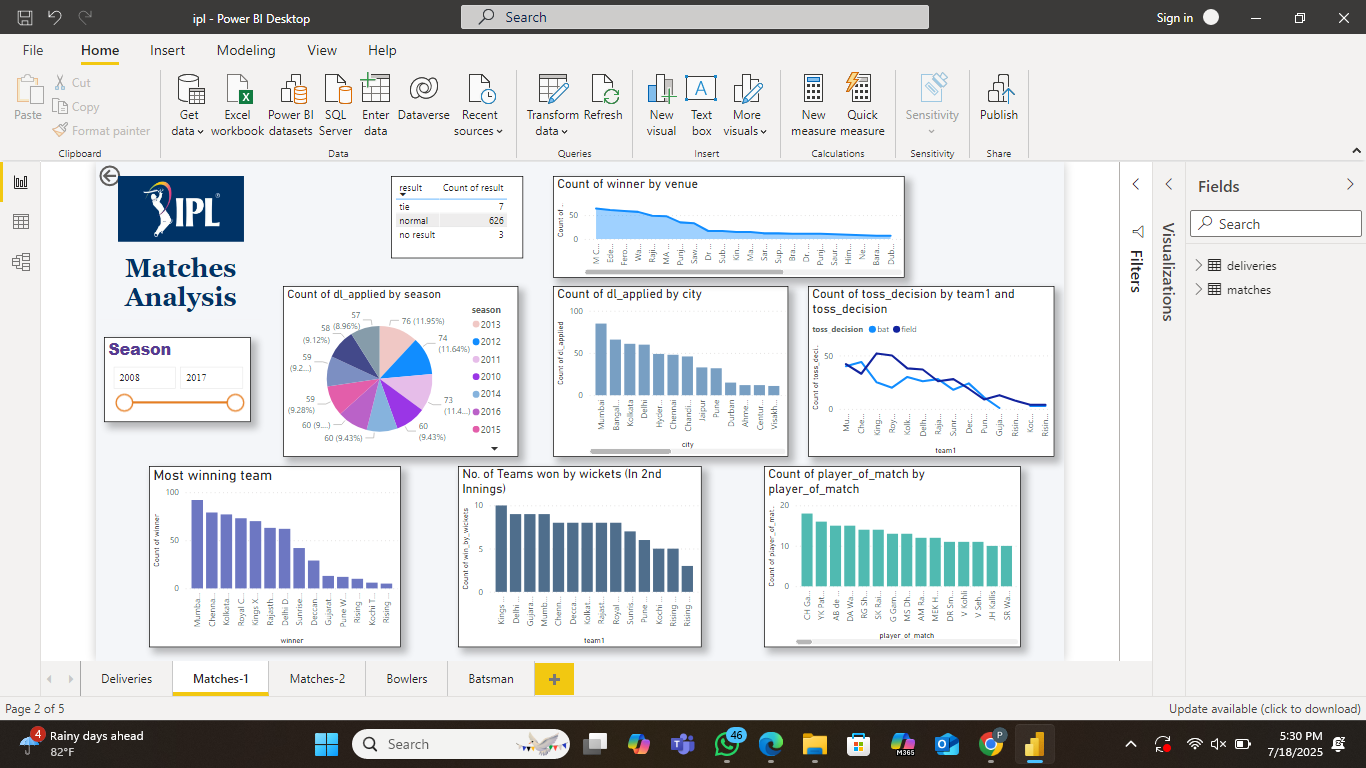

What the dashboard file says about the page in this screenshot:
{"tool":"powerbi","page":{"name":"Matches-1","canvas":[1398,721],"ordinal":1},"visuals":[{"type":"clusteredColumnChart","fields":{"Y":["matches.dl_applied"],"Category":["matches.city"]},"box":[659.9,178.9,339.7,246.5],"z":0},{"type":"clusteredColumnChart","title":"Most winning team","fields":{"Category":["matches.winner"],"Y":["matches.winner"]},"box":[76.7,438.9,363.8,261.6],"z":1000},{"type":"actionButton","box":[0,0,100,40],"z":2000},{"type":"clusteredColumnChart","title":"No. of Teams won by wickets (In 2nd Innings)","fields":{"Category":["matches.team1"],"Y":["matches.win_by_wickets"]},"box":[523.1,438.9,351.8,261.6],"z":3000},{"type":"lineChart","fields":{"Category":["matches.team1"],"Series":["matches.toss_decision"],"Y":["matches.toss_decision"]},"box":[1028.2,178.9,356.3,246.5],"z":4000},{"type":"clusteredColumnChart","fields":{"Category":["matches.player_of_match"],"Y":["matches.player_of_match"]},"box":[965.1,438.9,371.3,261.6],"z":5000},{"type":"image","box":[31.6,19.5,181.9,94.7],"z":6000},{"type":"slicer","title":"Season","fields":{"Values":["matches.season"]},"box":[11.5,252.5,212.1,122.7],"z":7000},{"type":"textbox","box":[4.5,127.8,236,100.7],"z":8000},{"type":"pieChart","fields":{"Y":["matches.dl_applied"],"Series":["matches.season"]},"box":[270.6,178.9,339.7,246.5],"z":9000},{"type":"tableEx","fields":{"Values":["matches.result","matches.result"]},"box":[426.9,19.5,190.9,118.8],"z":10000},{"type":"areaChart","fields":{"Category":["matches.venue"],"Y":["matches.winner"]},"box":[659.9,19.5,508.1,147.3],"z":11000}]}

Visuals, with their boxes on the page's 1398x721 design canvas (x1, y1, x2, y2). These are canvas units, not pixel positions in the 1366x768 screenshot, which may show the page scaled, cropped or inside an application window:
clusteredColumnChart - matches.dl_applied x matches.city: (left=660, top=179, right=1000, bottom=425)
"Most winning team" clusteredColumnChart: (left=77, top=439, right=440, bottom=700)
actionButton: (left=0, top=0, right=100, bottom=40)
"No. of Teams won by wickets (In 2nd Innings)" clusteredColumnChart: (left=523, top=439, right=875, bottom=700)
lineChart - matches.team1 x matches.toss_decision: (left=1028, top=179, right=1384, bottom=425)
clusteredColumnChart - matches.player_of_match x matches.player_of_match: (left=965, top=439, right=1336, bottom=700)
image: (left=32, top=20, right=214, bottom=114)
"Season" slicer: (left=12, top=252, right=224, bottom=375)
textbox: (left=4, top=128, right=240, bottom=228)
pieChart - matches.dl_applied x matches.season: (left=271, top=179, right=610, bottom=425)
tableEx - matches.result x matches.result: (left=427, top=20, right=618, bottom=138)
areaChart - matches.venue x matches.winner: (left=660, top=20, right=1168, bottom=167)
